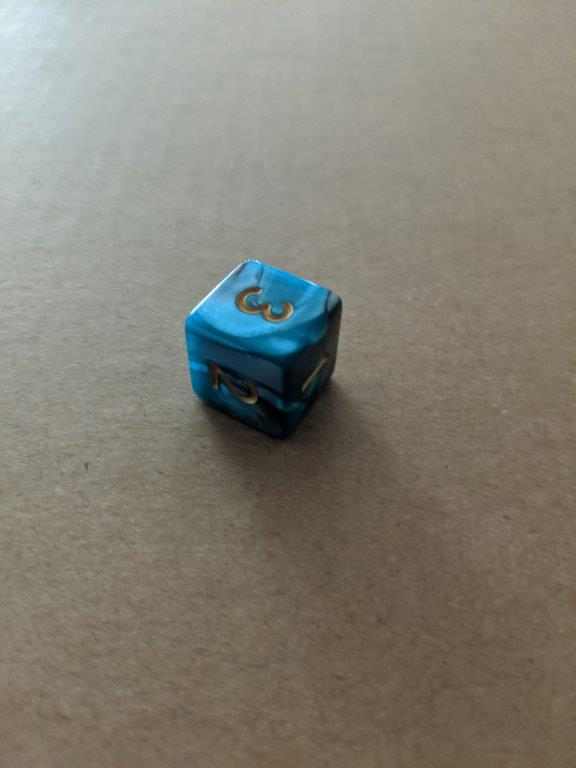d6-3: (185, 258, 344, 439)
